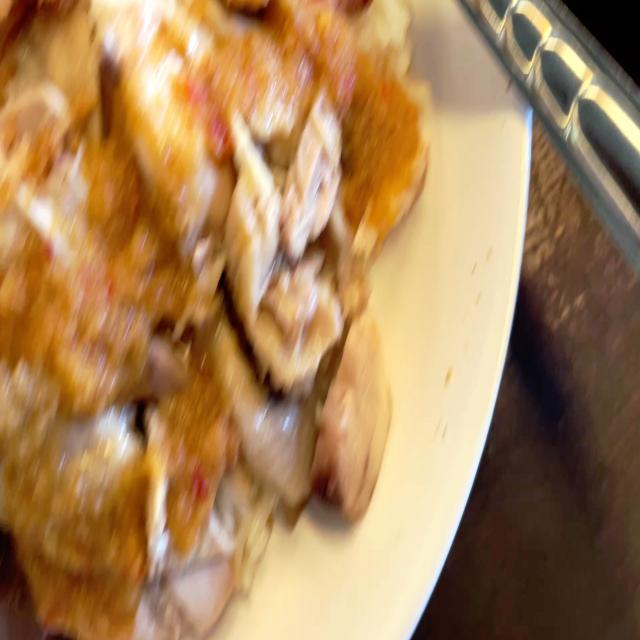boiled_chicken: (0, 0, 405, 531)
chicken_rice: (0, 0, 434, 640)
